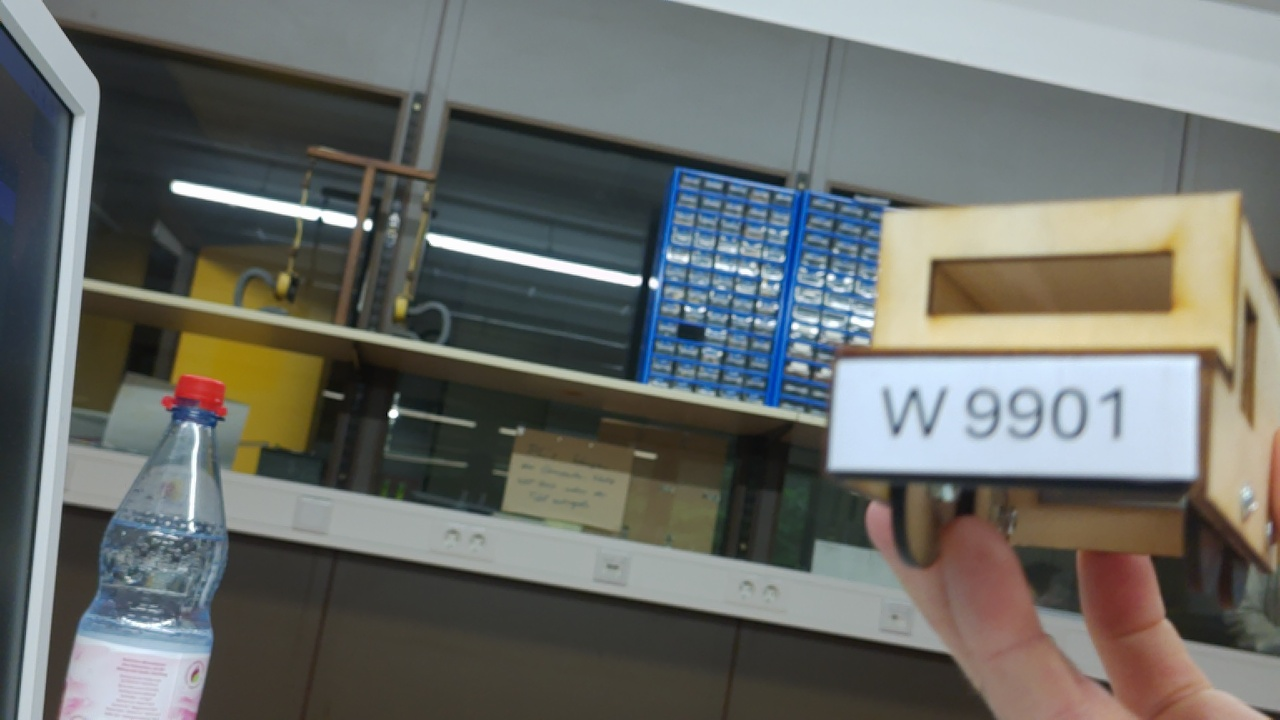license_plate: (820, 346, 1228, 495)
